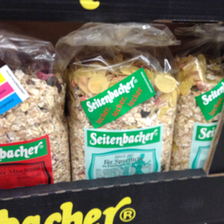cereal: (70, 56, 179, 182), (1, 65, 68, 193), (172, 57, 224, 170)
